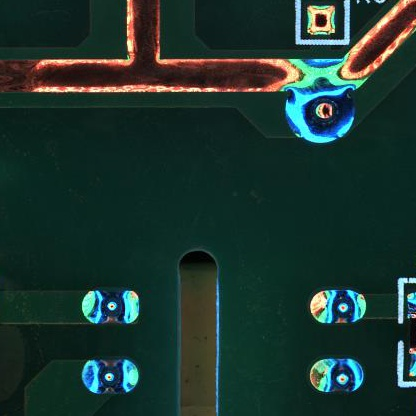spot: (285, 75, 361, 147), (79, 286, 147, 326), (305, 285, 371, 326), (307, 354, 368, 396), (79, 357, 142, 394)
